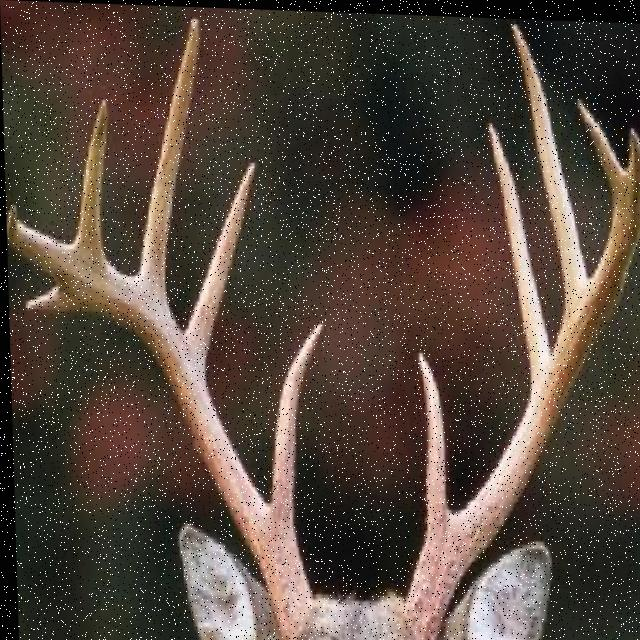E1: (21, 286, 84, 315)
L-F: (401, 121, 640, 640)
L-G1: (414, 346, 448, 535)
L-G2: (485, 115, 549, 392)
L-G3: (510, 17, 588, 319)
L-G4: (576, 91, 625, 198)
R-F: (5, 196, 309, 640)
R-G1: (265, 313, 327, 544)
R-G2: (180, 154, 255, 392)
R-G3: (135, 11, 201, 313)
R-G4: (70, 95, 108, 263)
